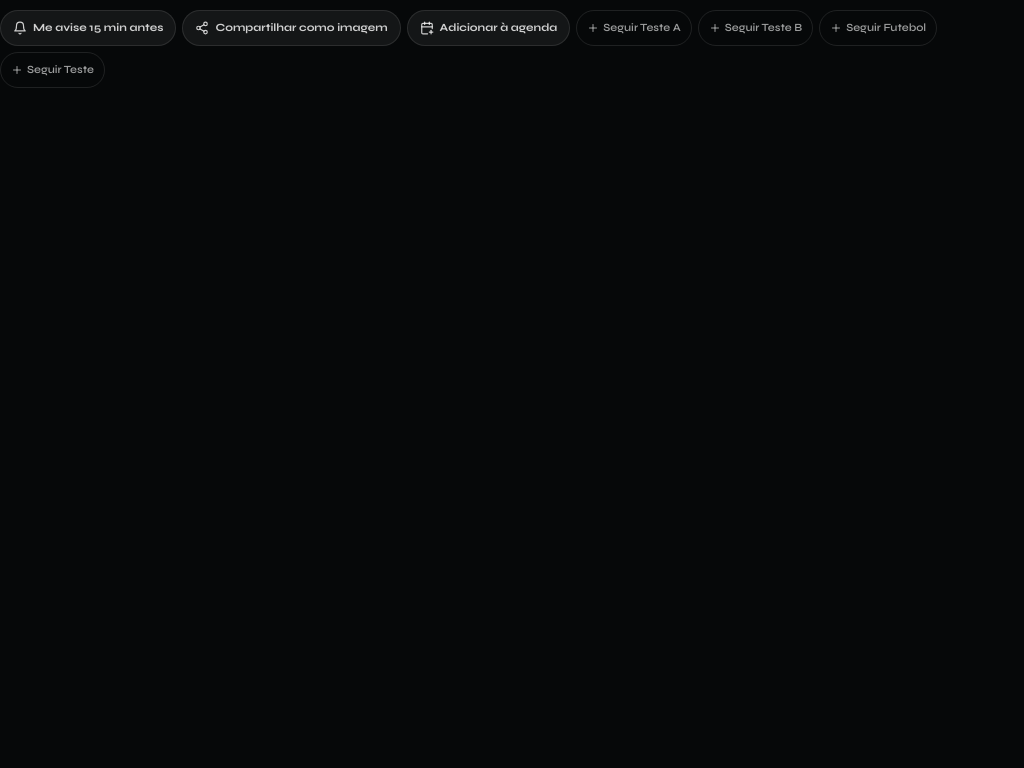
GameActions — ajuda de permissão do sino › falha por permissão durante o pedido abre a ajuda, não o erro genérico
Click the button with aria-label "Me avise 15 min antes de Teste A" at (88, 28), box left=0, top=10, right=176, bottom=46
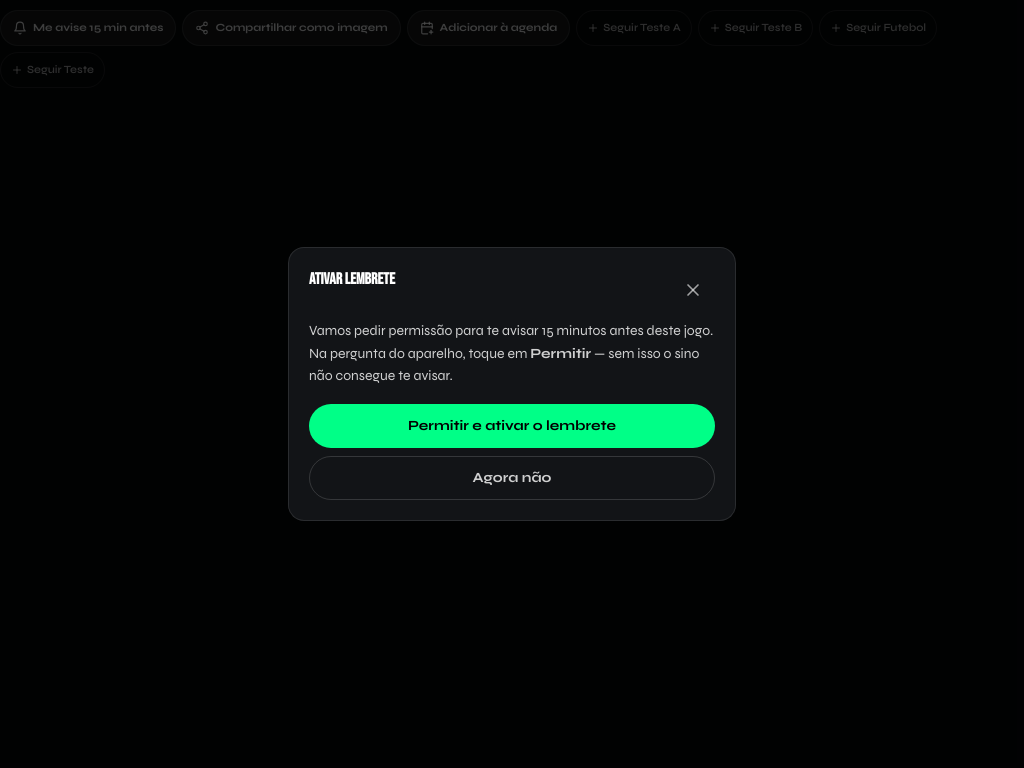
Click the button "Permitir e ativar o lembrete" at (512, 426), box left=309, top=404, right=715, bottom=448
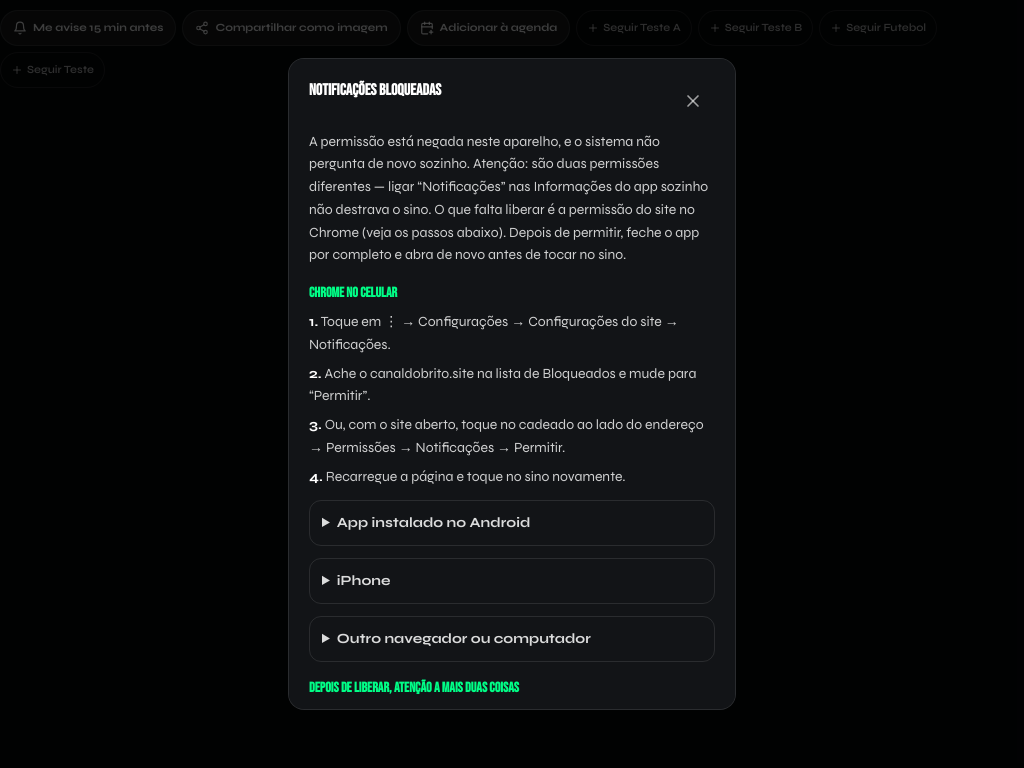
Now the dialog "Notificações bloqueadas" is shown
